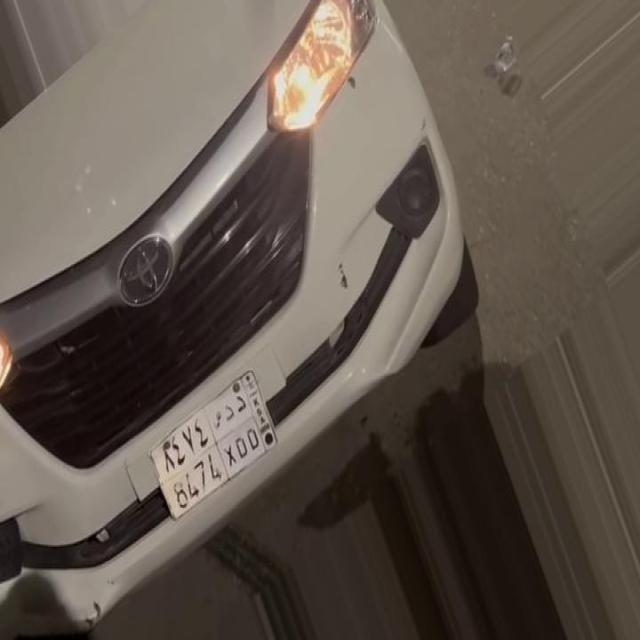Car-plate: (140, 347, 293, 542)
